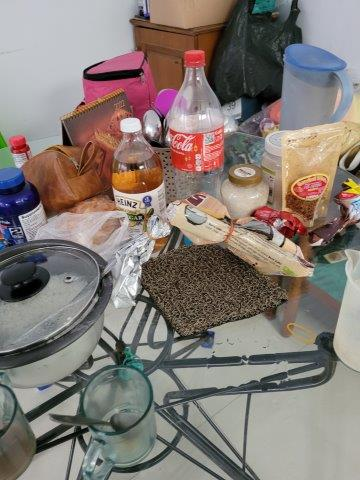botolplastik: (167, 50, 222, 196), (113, 117, 166, 238)
karet: (286, 320, 315, 344)
